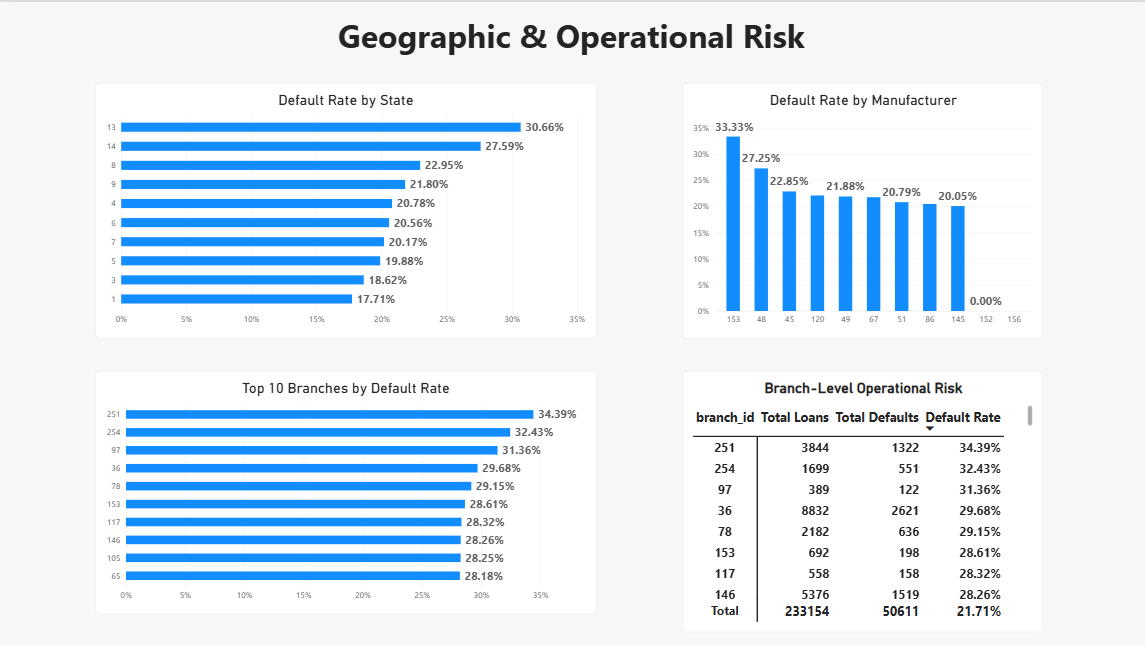

This screenshot's page, from the dashboard's own definition file:
{"tool":"powerbi","page":{"name":"Geographic & Operational Risk","canvas":[1920,1080],"ordinal":2},"visuals":[{"type":"textbox","box":[540,20,827.5,87.5],"z":0},{"type":"clusteredBarChart","title":"Default Rate by State","fields":{"Category":["vehicle_loan_analysis.State_ID"],"Y":["vehicle_loan_analysis.Default Rate"]},"box":[160,135,835,425],"z":1000},{"type":"clusteredBarChart","title":"Top 10 Branches by Default Rate","fields":{"Category":["vehicle_loan_analysis.branch_id"],"Y":["vehicle_loan_analysis.Default Rate"]},"box":[160,615,835,405],"z":2000},{"type":"clusteredColumnChart","title":"Default Rate by Manufacturer","fields":{"Category":["vehicle_loan_analysis.manufacturer_id"],"Y":["vehicle_loan_analysis.Default Rate"]},"box":[1140,135,600,425],"z":3000},{"type":"pivotTable","title":"Branch-Level Operational Risk ","fields":{"Rows":["vehicle_loan_analysis.branch_id"],"Values":["vehicle_loan_analysis.Total Loans","vehicle_loan_analysis.Total Defaults","vehicle_loan_analysis.Default Rate"]},"box":[1140,615,600,435],"z":4000}]}

Visuals, with their boxes in screenshot pixels (x1, y1, x2, y2), scaled from the page's 1920x1080 canvas onto the 1145x645 screenshot:
textbox: left=322, top=12, right=816, bottom=64
"Default Rate by State" clusteredBarChart: left=95, top=81, right=593, bottom=334
"Top 10 Branches by Default Rate" clusteredBarChart: left=95, top=367, right=593, bottom=609
"Default Rate by Manufacturer" clusteredColumnChart: left=680, top=81, right=1038, bottom=334
"Branch-Level Operational Risk " pivotTable: left=680, top=367, right=1038, bottom=627
